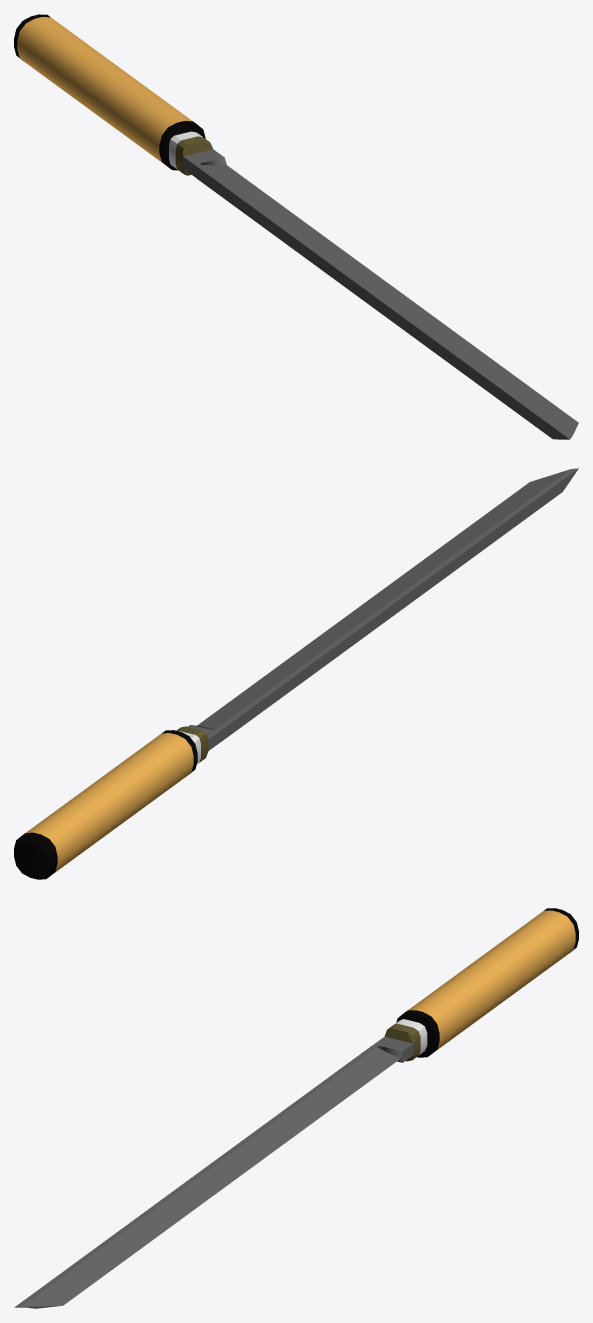
Rendered from bamboo_katana.glb.
3 views of the same model, one above another, from view 1: azimuth 30°, elevation 25°; view 2: azimuth 150°, elevation 25°; view 3: azimuth 330°, elevation 25° (orthographic). The views are drawn at different scales.
Visible parts, largest first — view 1: Cube; view 2: Cube; view 3: Cube.
Part boxes in pixels (x1,y1,x2,y2): Cube: (14,14,578,439); Cube: (14,468,578,879); Cube: (14,908,578,1308).
Size of the model in its own units: 0.0461 by 0.0468 by 1.05.
